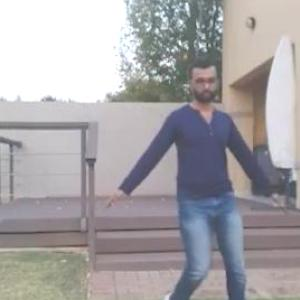land: (115, 68, 269, 299)
